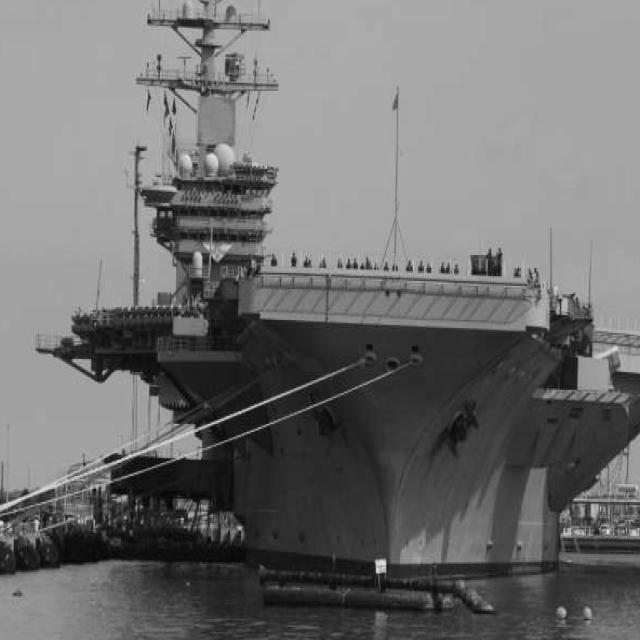Portanaves: (31, 1, 640, 613)
